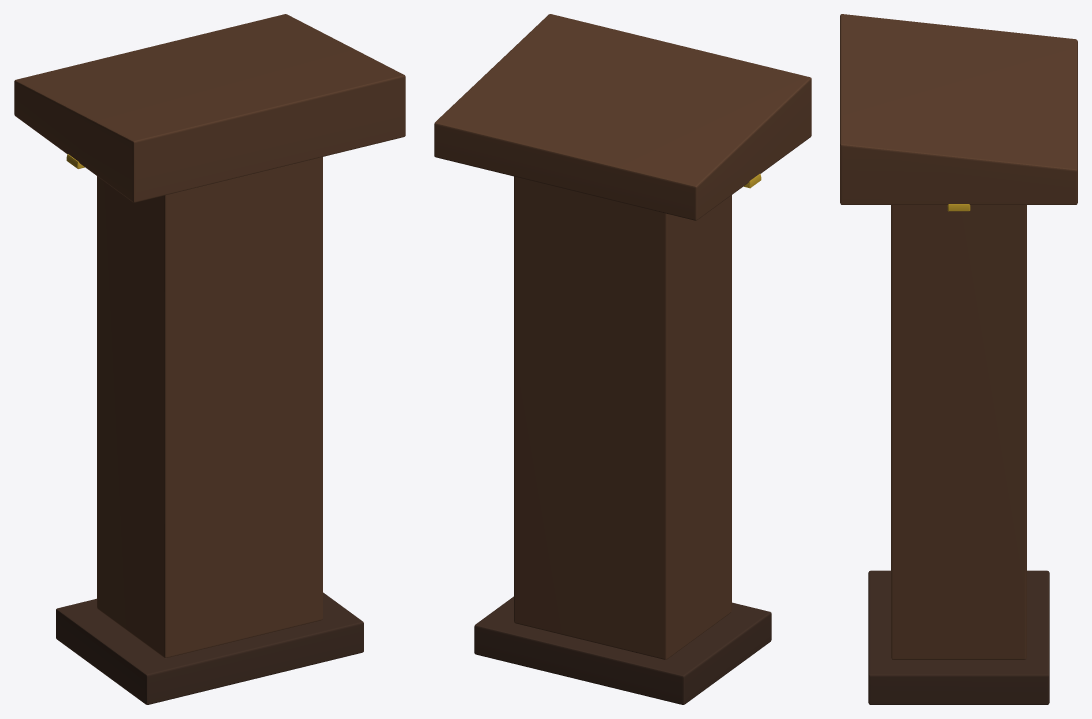
File: prop_lectern.glb
3 renders of one model, left to right at view 1: azimuth 30°, elevation 25°; view 2: azimuth 150°, elevation 25°; view 3: azimuth 270°, elevation 25°, orthographic. The views are drawn at different scales.
Parts seen in each view (by area): view 1: Lectern; view 2: Lectern; view 3: Lectern.
Boxes of the visible parts, <box> form: Lectern: <box>14,14,405,704</box>; Lectern: <box>434,14,811,704</box>; Lectern: <box>840,14,1077,704</box>.
Size of what is drawn, in the model's own units: 0.556 by 1.12 by 0.42.
